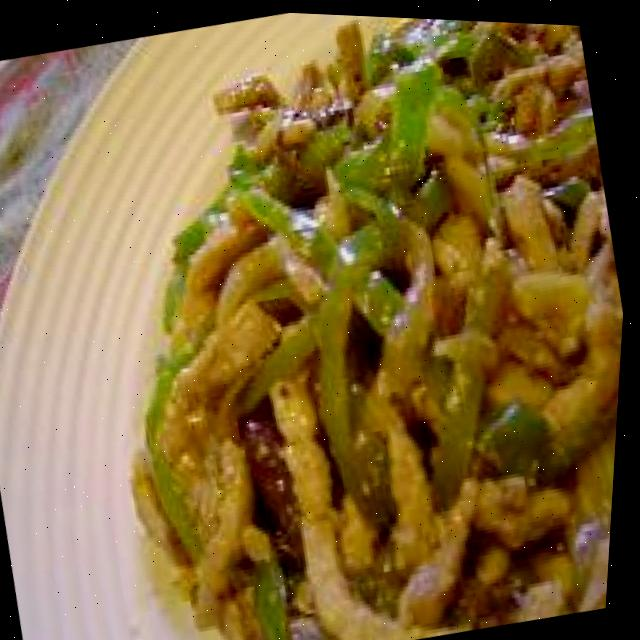牛肉菜式: (24, 2, 640, 640)
